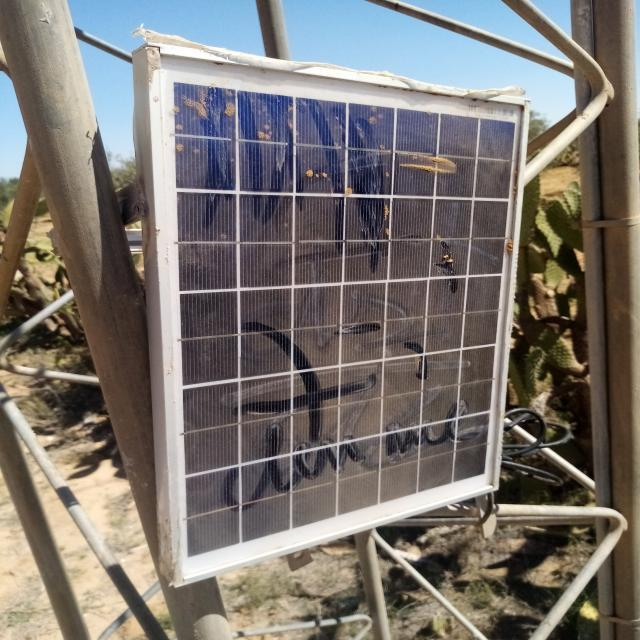faulty: (160, 51, 529, 583)
